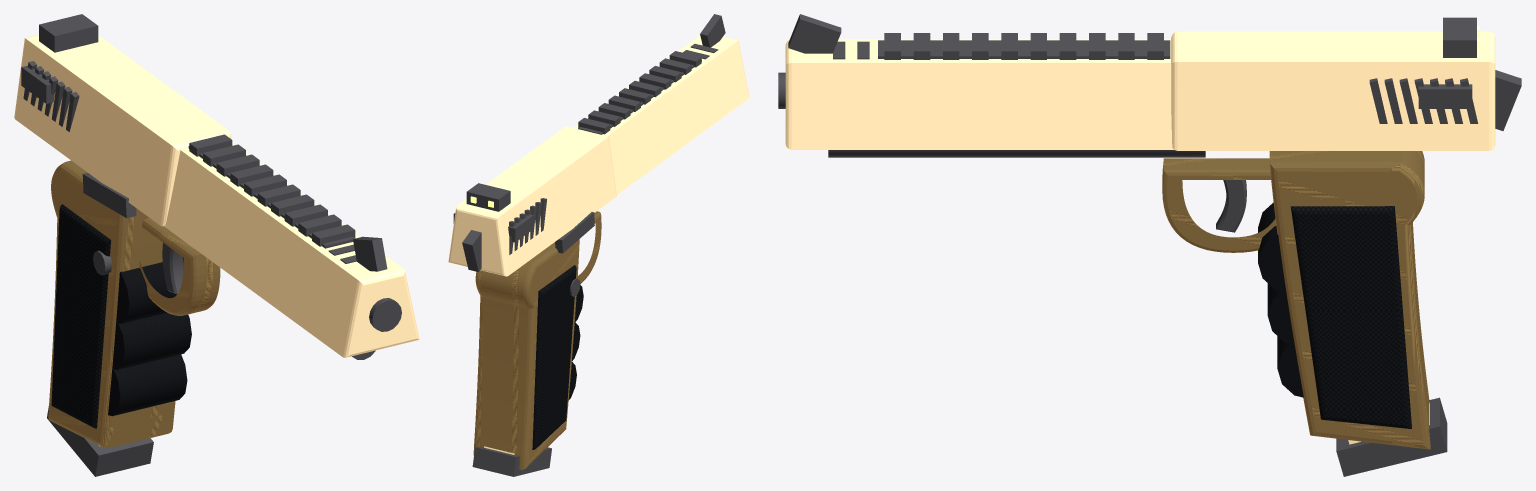
Rendered from desert_eagle (1).glb.
3 views of the same model, side by side, from view 1: azimuth 30°, elevation 25°; view 2: azimuth 150°, elevation 25°; view 3: azimuth 270°, elevation 25° (orthographic). The views are drawn at different scales.
Parts seen in each view (by area): view 1: Deagle_Frame_metalChrome, Deagle_Slide_metalChrome, Deagle_Frame_polymer, Deagle_Frame_metalPrimary, Deagle_Frame_metalDark, Deagle_Slide_metalDark, Deagle_Mag_metalDark; view 2: Deagle_Frame_metalPrimary, Deagle_Slide_metalChrome, Deagle_Frame_metalChrome, Deagle_Frame_polymer, Deagle_Frame_metalDark, Deagle_Slide_metalDark, Deagle_Mag_metalDark, Deagle_Hammer_metalDark; view 3: Deagle_Frame_metalChrome, Deagle_Slide_metalChrome, Deagle_Frame_polymer, Deagle_Frame_metalPrimary, Deagle_Frame_metalDark, Deagle_Slide_metalDark, Deagle_Mag_metalDark, Deagle_Hammer_metalDark.
Part boxes in pixels (x1,y1,x2,y2): Deagle_Frame_metalChrome: [164, 143, 419, 357]; Deagle_Slide_metalChrome: [14, 34, 231, 226]; Deagle_Frame_polymer: [51, 204, 191, 428]; Deagle_Frame_metalPrimary: [48, 160, 220, 448]; Deagle_Frame_metalDark: [82, 134, 401, 359]; Deagle_Slide_metalDark: [21, 14, 98, 131]; Deagle_Mag_metalDark: [47, 406, 153, 476]; Deagle_Frame_metalPrimary: [473, 211, 601, 469]; Deagle_Slide_metalChrome: [448, 126, 616, 276]; Deagle_Frame_metalChrome: [574, 35, 749, 194]; Deagle_Frame_polymer: [532, 265, 583, 449]; Deagle_Frame_metalDark: [555, 14, 725, 296]; Deagle_Slide_metalDark: [453, 183, 546, 254]; Deagle_Mag_metalDark: [472, 446, 551, 476]; Deagle_Hammer_metalDark: [462, 230, 481, 271]; Deagle_Frame_metalChrome: [785, 39, 1173, 149]; Deagle_Slide_metalChrome: [1171, 31, 1495, 150]; Deagle_Frame_polymer: [1258, 202, 1411, 428]; Deagle_Frame_metalPrimary: [1162, 151, 1430, 449]; Deagle_Frame_metalDark: [778, 14, 1246, 232]; Deagle_Slide_metalDark: [1369, 17, 1478, 123]; Deagle_Mag_metalDark: [1336, 397, 1447, 476]; Deagle_Hammer_metalDark: [1495, 70, 1521, 130].
Size of the model in its own units: 0.043 by 0.2021 by 0.3053.
7 materials, 2 textured.
